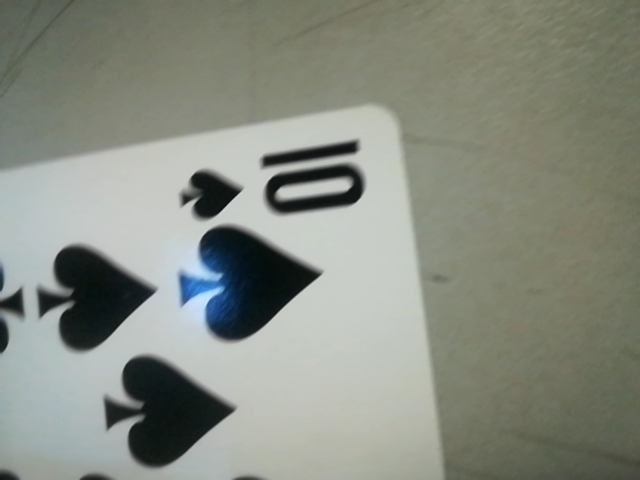ht 10: (172, 133, 388, 237)
